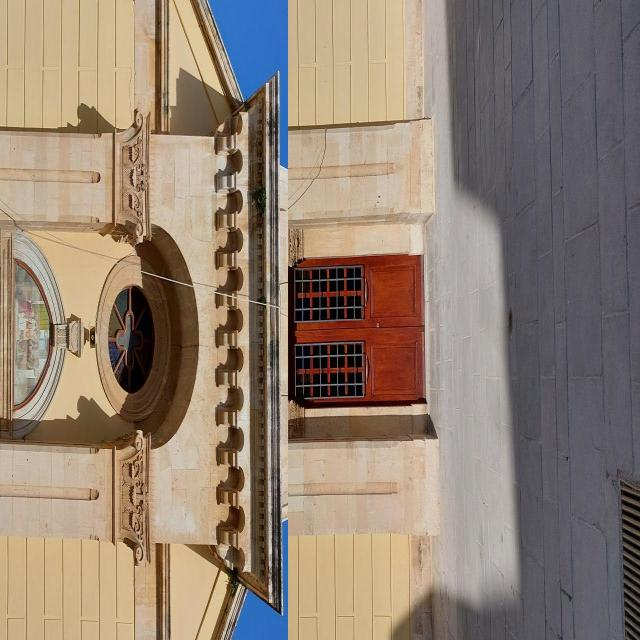Agios Minas: (1, 1, 289, 640)
